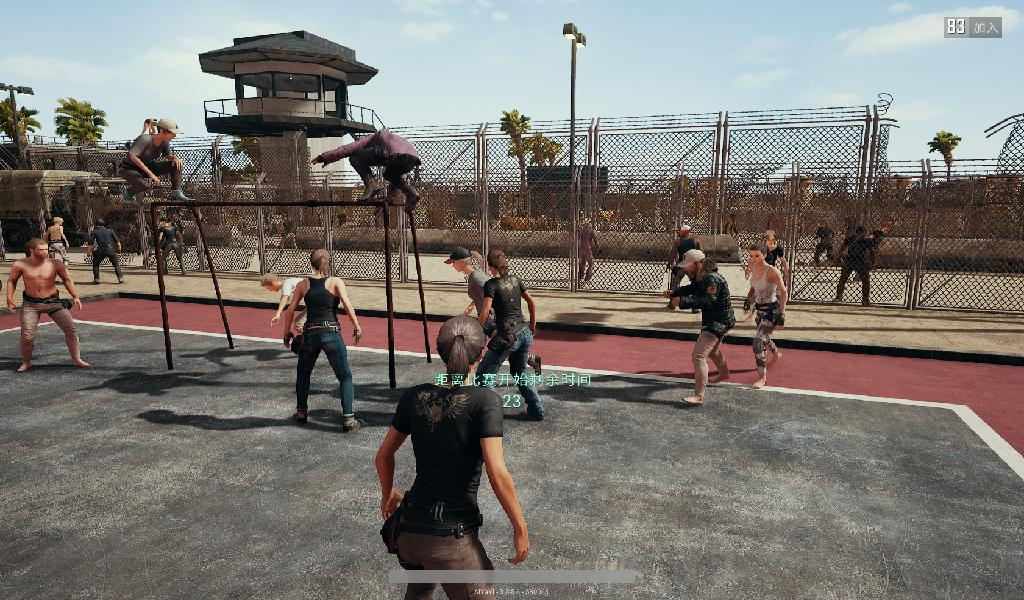Target Person: (375, 317, 530, 600), (438, 246, 544, 393), (285, 249, 362, 438), (481, 240, 548, 433), (658, 248, 733, 415), (8, 239, 85, 377), (311, 129, 423, 214), (739, 241, 785, 389), (115, 119, 192, 201), (259, 277, 326, 350), (667, 219, 710, 319), (756, 226, 791, 323), (837, 225, 873, 310), (83, 219, 125, 288), (36, 214, 70, 286), (152, 215, 188, 279), (572, 215, 598, 293), (811, 216, 836, 276), (274, 211, 299, 260), (170, 210, 189, 260), (723, 210, 739, 265)
